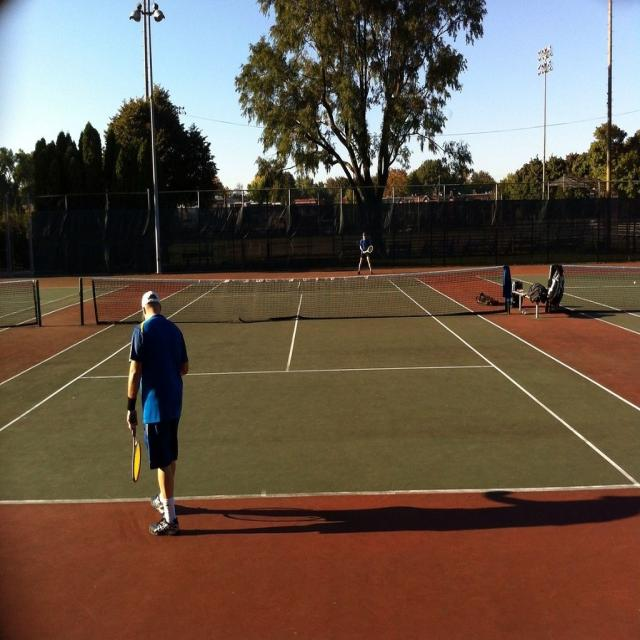ball: (634, 279, 636, 285)
